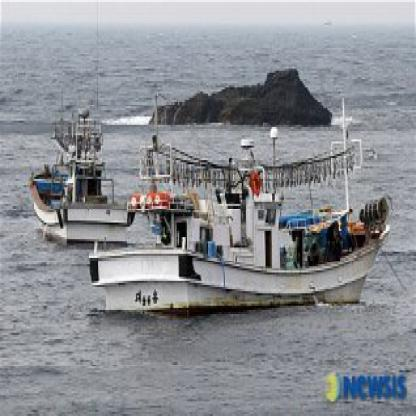fish-b: (85, 177, 398, 324), (21, 81, 144, 250)
